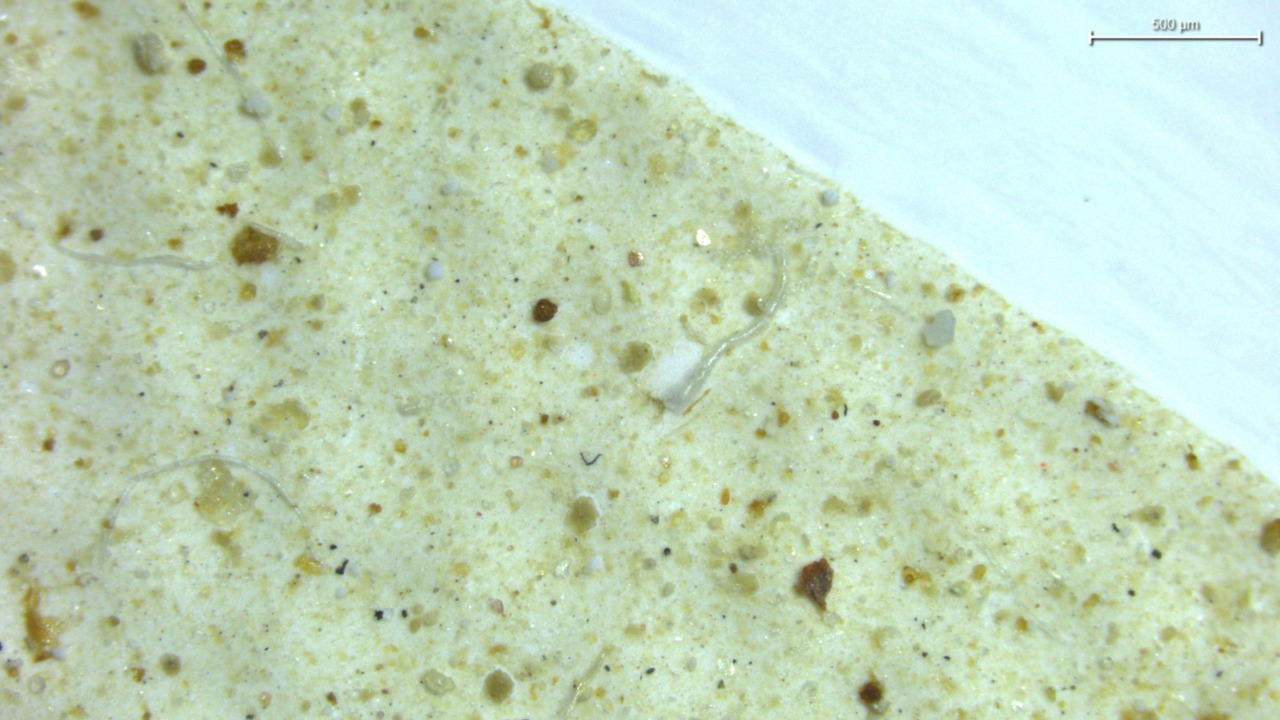microplastic_fragment: (131, 34, 165, 74), (923, 309, 955, 347), (242, 92, 270, 118)
